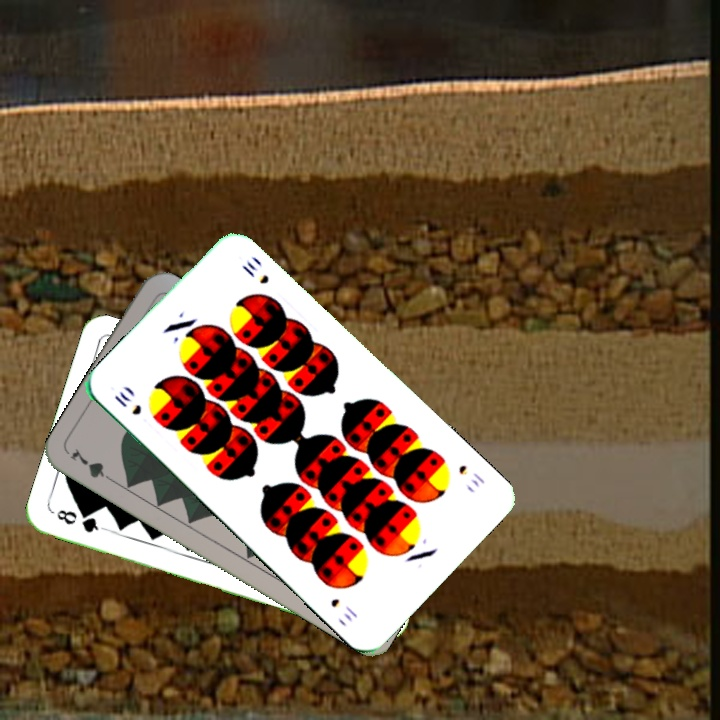G7: (65, 445, 119, 487)
G8: (52, 505, 107, 535)
S10: (109, 387, 144, 418), (454, 461, 488, 490)
